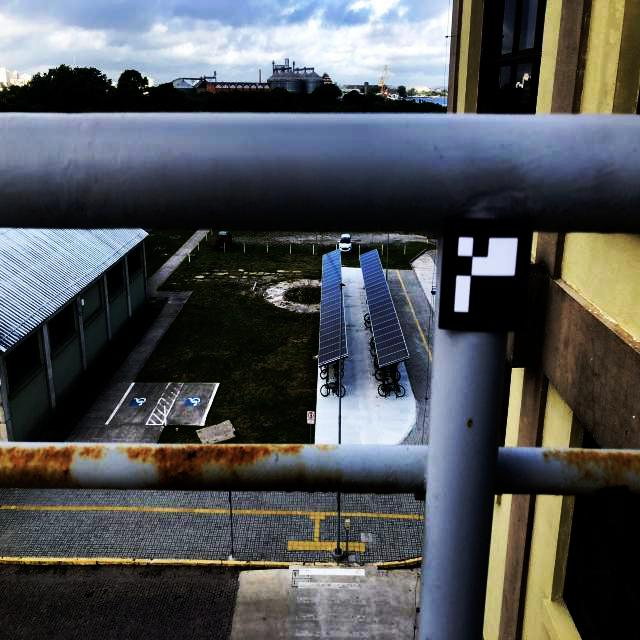Corrosion: (115, 444, 304, 491), (544, 450, 640, 496), (0, 444, 79, 486), (296, 474, 346, 492), (81, 447, 109, 458)
